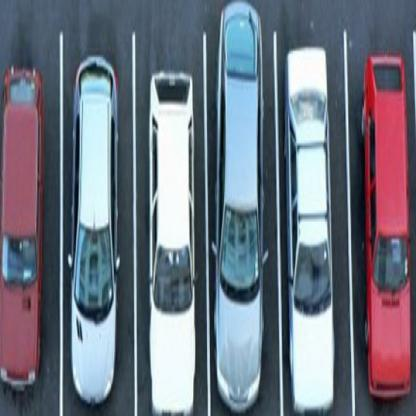Car: (286, 100, 348, 375), (82, 54, 129, 401), (217, 46, 263, 343), (363, 113, 411, 375), (157, 86, 198, 382), (5, 72, 44, 344)
